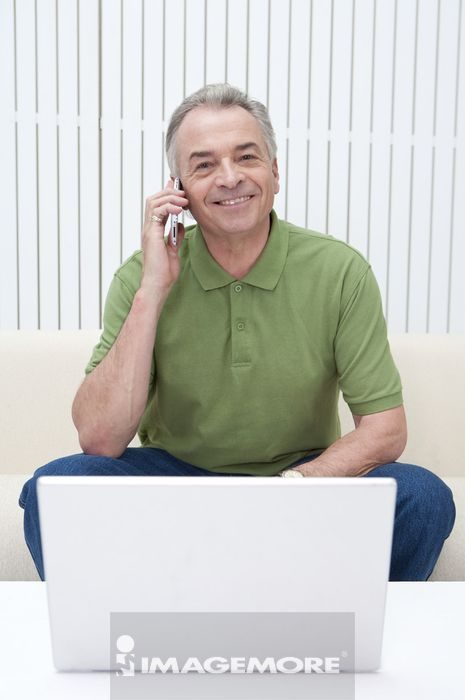phone: (170, 173, 183, 248)
talk: (136, 131, 268, 294)
